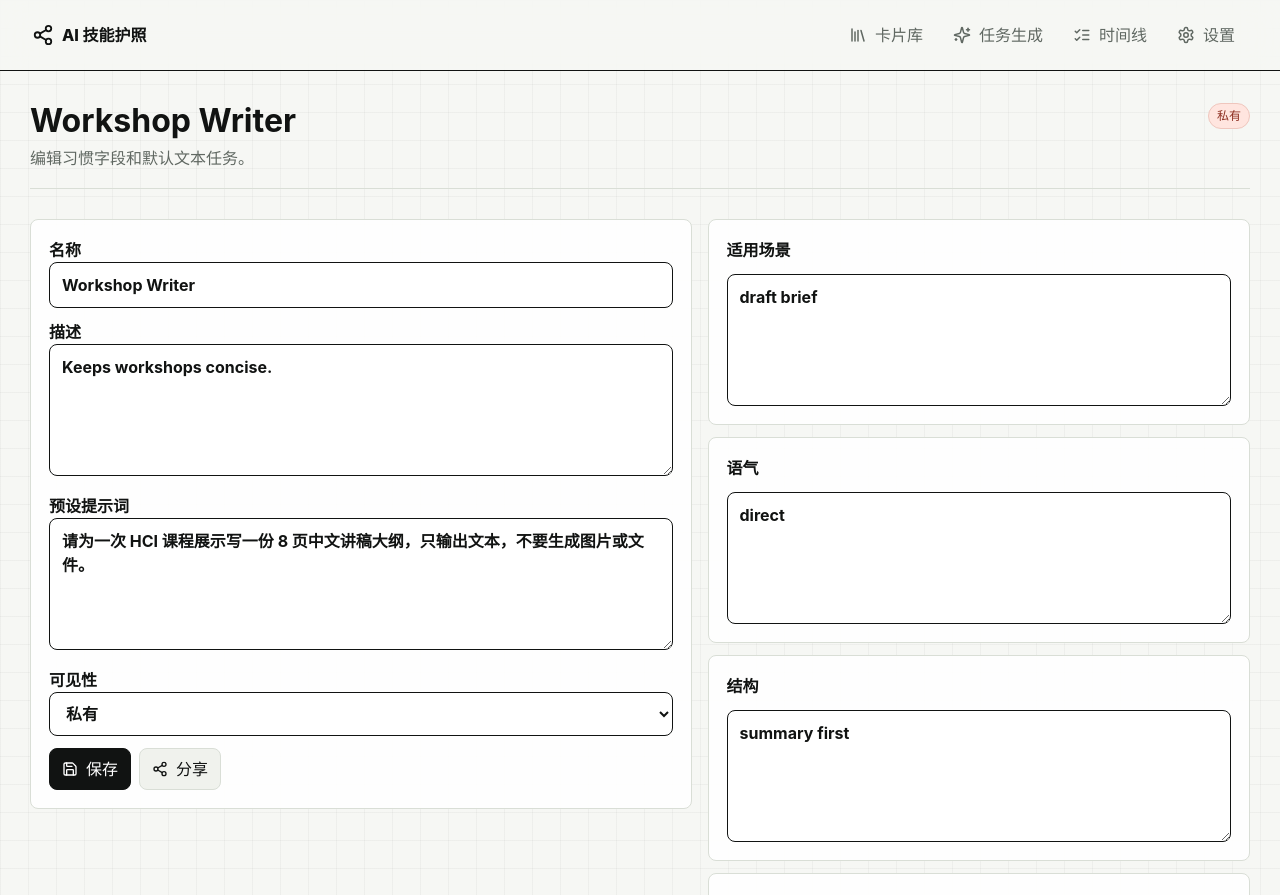
App › locks card detail editors while save is in flight
Expected: the heading "Workshop Writer" is shown, [30,103,296,138]
Click the button "保存": (90, 769) [49,748,131,790]
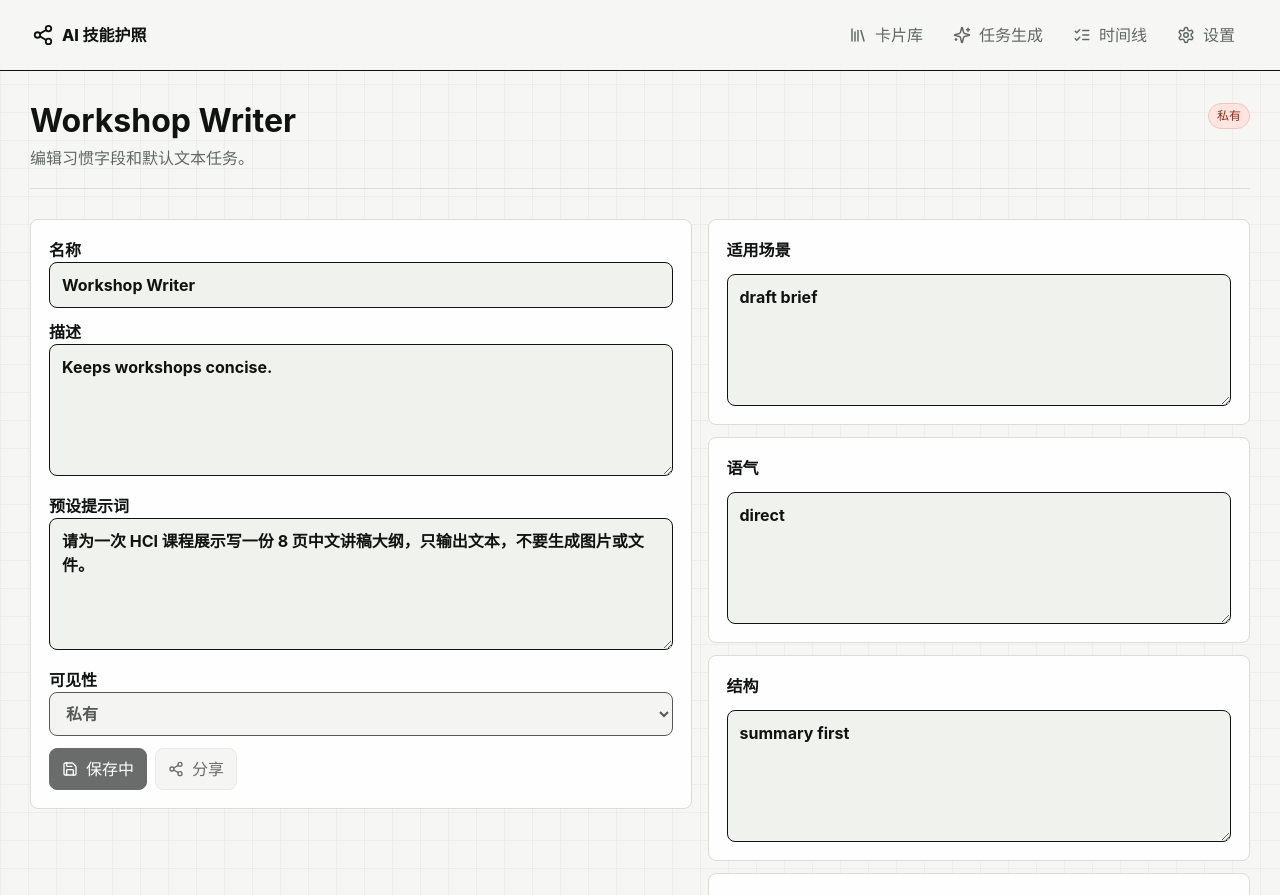
Expected: the field labelled "名称" is disabled, [49,262,672,308]
Expected: the dropdown labelled "可见性" is disabled, [49,692,672,736]
